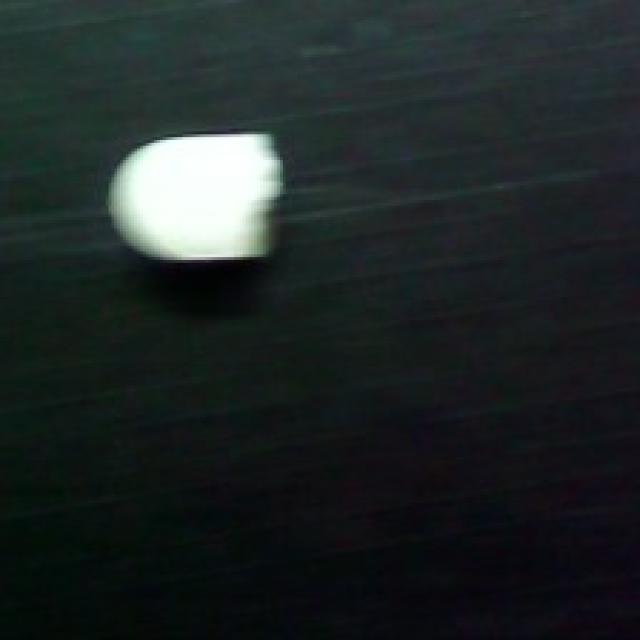defected: (100, 123, 291, 266)
